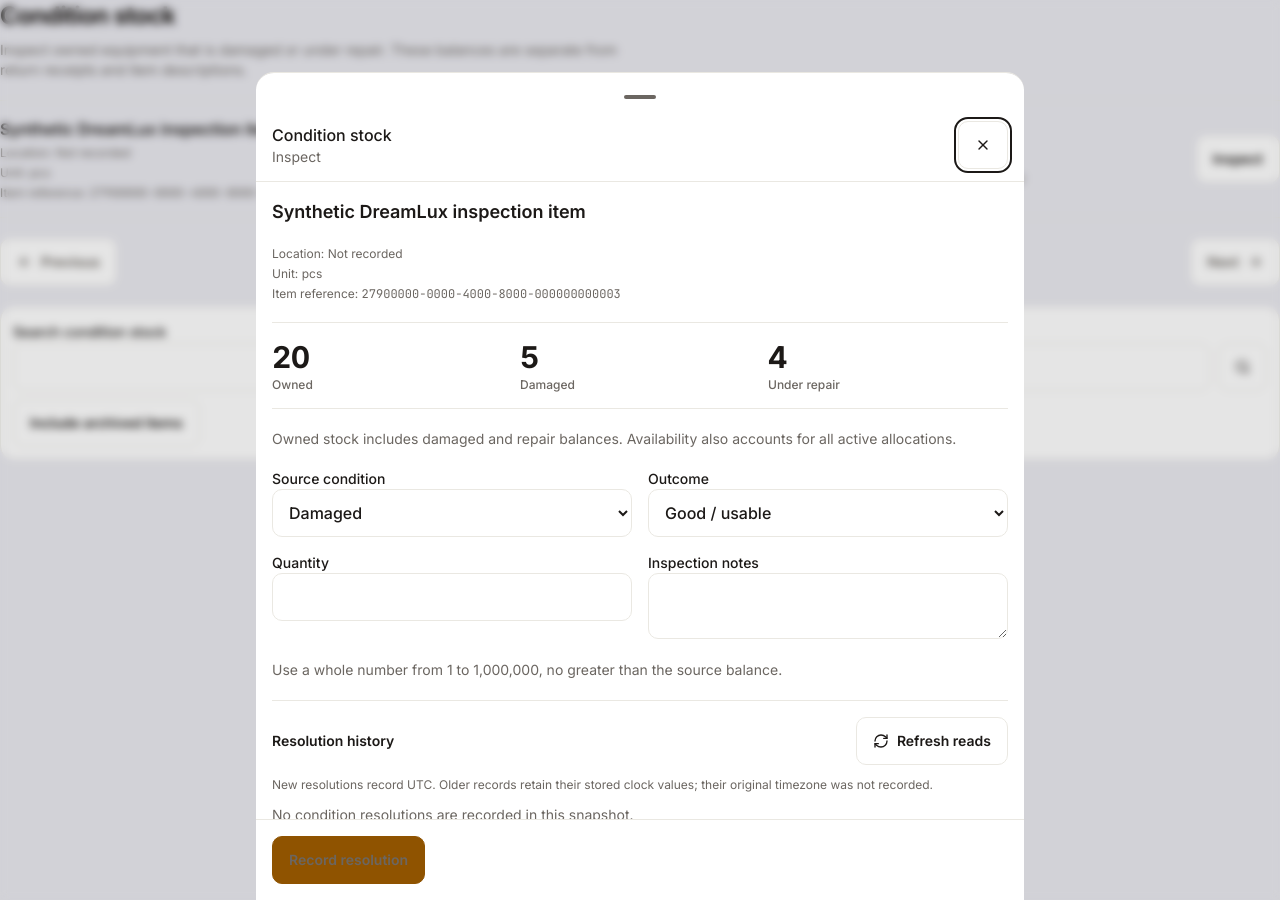
Test: condition-stock operator interface › shows protected storage failure inside the sheet and sends nothing
This screenshot has width=1280, height=900.
Check: the heading "Synthetic DreamLux inspection item" is shown, box [272,201,586,222]
Type "1" into the field labelled "Quantity" at (452, 597), box [272,573,632,621]
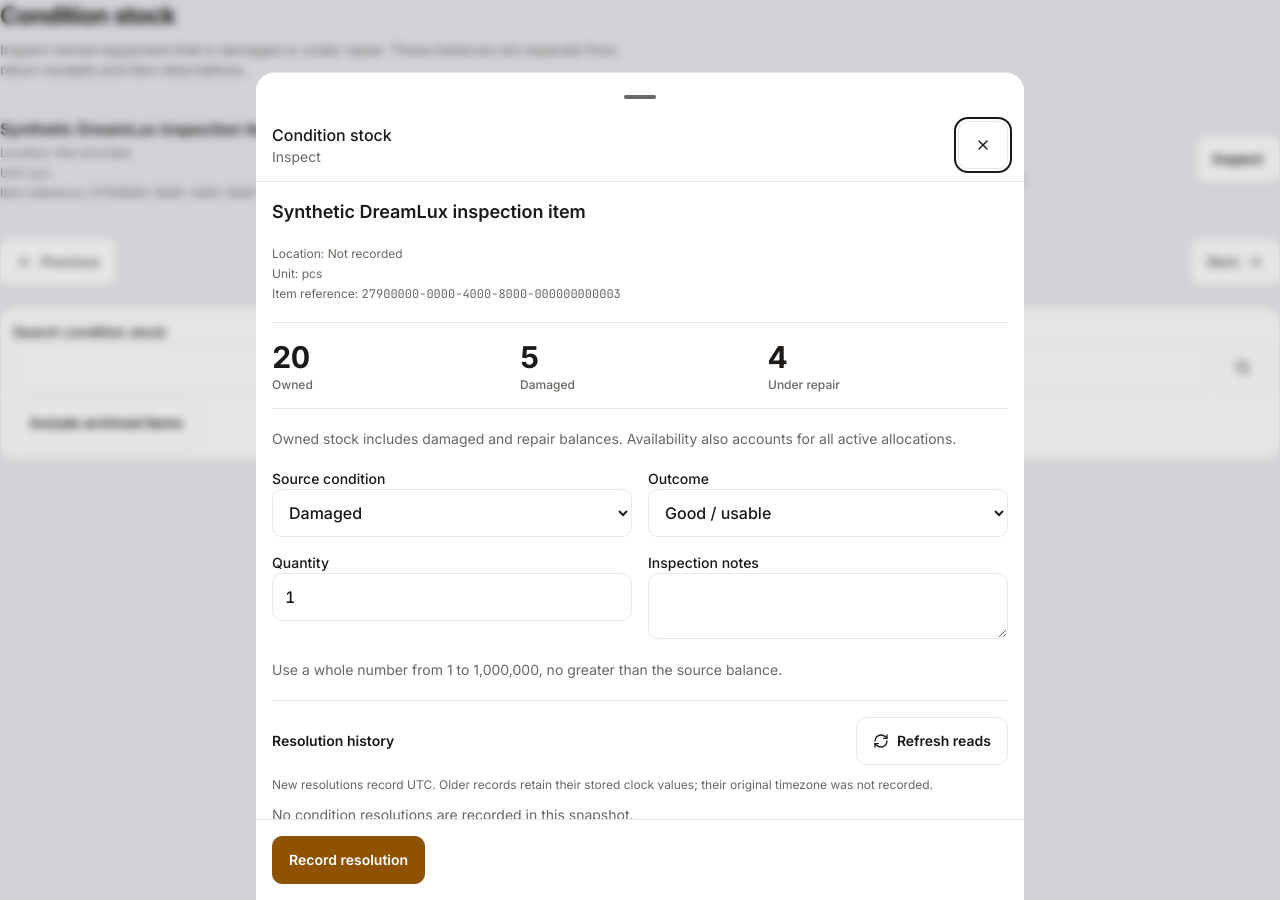
Click the button "Record resolution" at (349, 860), box [272,836,425,884]
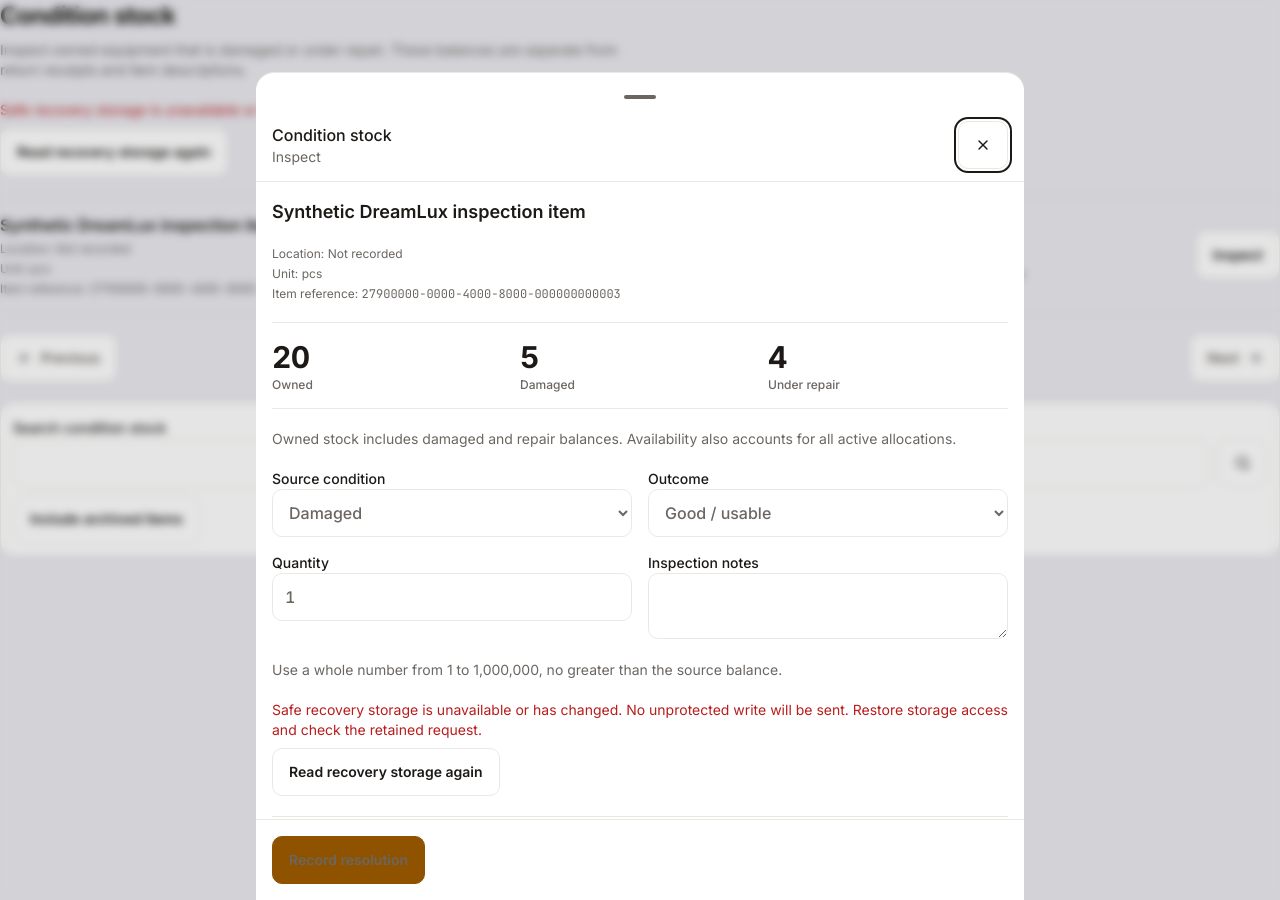
Check: the text "Safe recovery storage is unavailable or has changed. No unprotected write will be sent. Restore storage access and check" is shown, box [272,701,1008,738]
